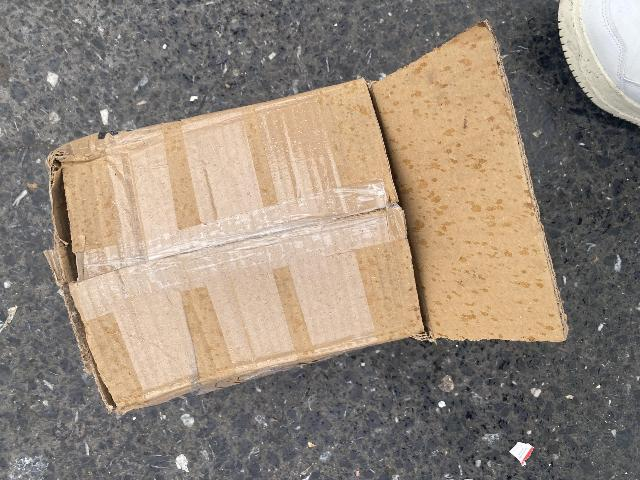Kagit: (44, 14, 579, 425)
